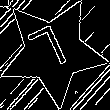L_SE: (28, 22, 77, 81)
